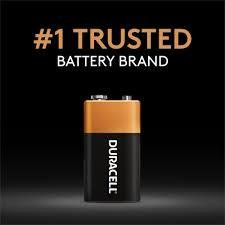9V Battery: (84, 95, 141, 203)
